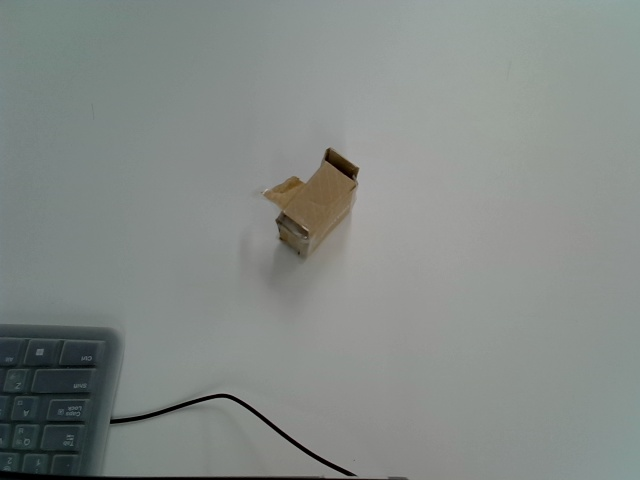defect: (253, 147, 362, 260)
